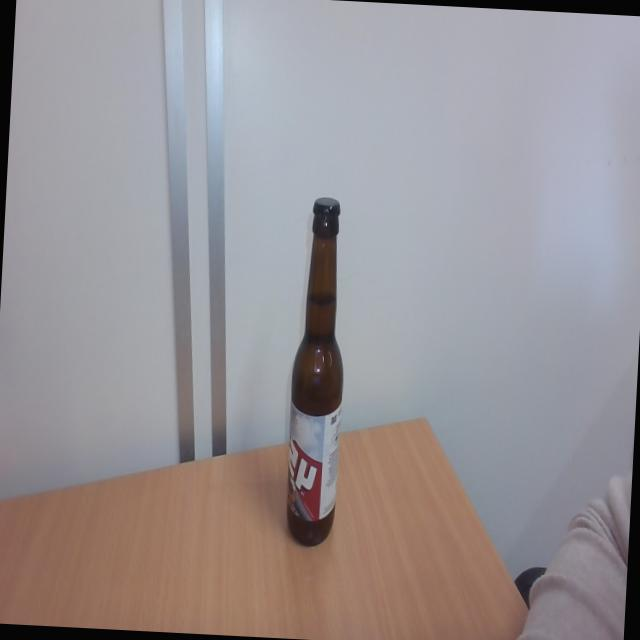Bottle: (282, 221, 353, 549)
Cap: (313, 193, 342, 220)
Label: (284, 405, 344, 522)
